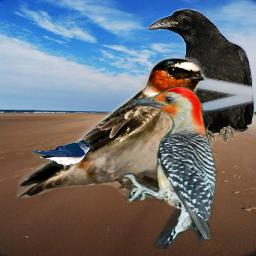Crow: (147, 8, 256, 149)
Swallow: (15, 55, 207, 198), (31, 140, 93, 170)
Woodpecker: (124, 86, 220, 249)
